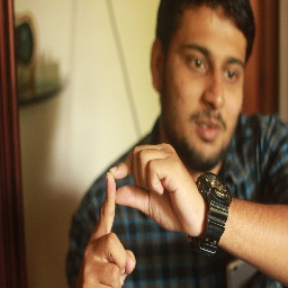P: (84, 139, 199, 288)
